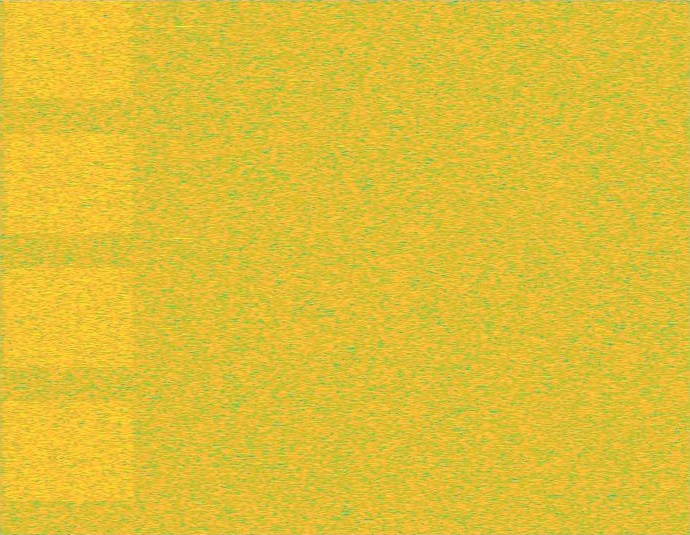5G: (0, 0, 138, 534)
Radar: (177, 0, 190, 534)
